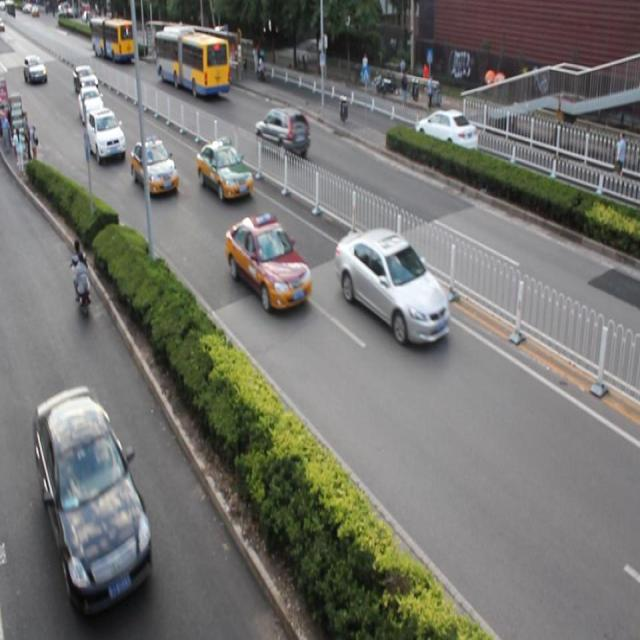car: (32, 384, 152, 608), (334, 224, 450, 346), (224, 212, 311, 308), (195, 138, 252, 199), (413, 107, 476, 160), (252, 104, 308, 158), (129, 135, 177, 194), (87, 108, 125, 162), (78, 84, 104, 123)
van: (154, 22, 229, 98)
